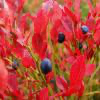Blueberry leaf: (70, 53, 87, 87), (34, 8, 50, 38), (30, 30, 45, 57), (54, 72, 71, 94), (6, 71, 19, 98), (64, 5, 78, 29), (58, 26, 74, 44), (22, 55, 35, 72), (39, 42, 50, 59), (36, 87, 50, 99), (87, 15, 96, 31)
